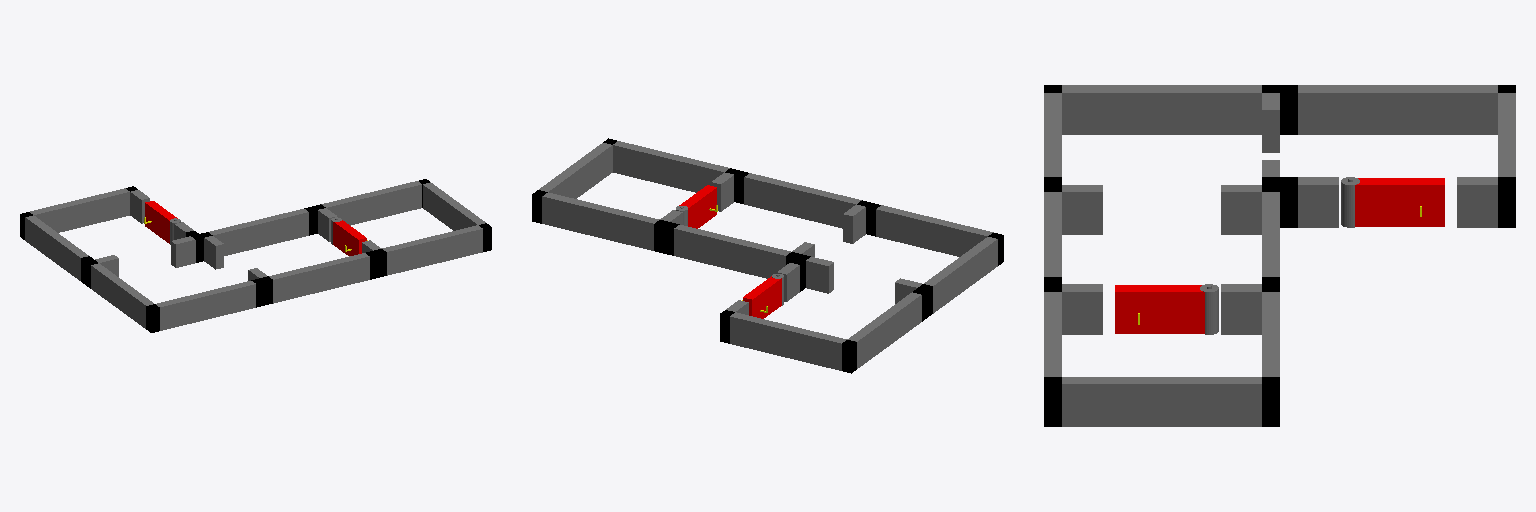
--- Render facts (derived) ---
Views: 3 orthographic renders of the robot side by side, from view 1: azimuth 30°, elevation 25°; view 2: azimuth 150°, elevation 25°; view 3: azimuth 270°, elevation 25°.
Model rooms3 with 54 links and 53 joints (2 revolute, 2 prismatic, 49 fixed), rooted at base_link, posed all joints at 0.
Visible links, largest first — view 1: link_fixed_23_wall_(-1.0, -0.4625), link_fixed_8_wall_(0.0, -0.4625), link_fixed_32_wall_(-2.0, -0.4625), link_fixed_21_wall_(-1.0, 0.4625), link_fixed_46_wall_(-2.0, 1.4625), link_fixed_6_wall_(0.0, 0.4625), link_fixed_49_wall_(-2.4625, 1.0), link_fixed_34_wall_(-2.4625, 0.0), link_fixed_4_wall_(0.4625, 0.0), link_fixed_14_door_panel, link_fixed_40_door_panel, link_fixed_30_wall_(-1.6625, 0.4625) (+1 smaller); view 2: link_fixed_46_wall_(-2.0, 1.4625), link_fixed_6_wall_(0.0, 0.4625), link_fixed_21_wall_(-1.0, 0.4625), link_fixed_23_wall_(-1.0, -0.4625), link_fixed_32_wall_(-2.0, -0.4625), link_fixed_8_wall_(0.0, -0.4625), link_fixed_49_wall_(-2.4625, 1.0), link_fixed_34_wall_(-2.4625, 0.0), link_fixed_4_wall_(0.4625, 0.0), link_fixed_40_door_panel, link_fixed_14_door_panel, link_fixed_30_wall_(-1.6625, 0.4625) (+3 smaller); view 3: link_fixed_34_wall_(-2.4625, 0.0), link_fixed_49_wall_(-2.4625, 1.0), link_fixed_4_wall_(0.4625, 0.0), link_fixed_40_door_panel, link_fixed_14_door_panel, link_fixed_10_wall_(-0.4625, -0.3375), link_fixed_11_wall_(-0.4625, 0.3375), link_fixed_36_wall_(-1.5375, 0.6625), link_fixed_37_wall_(-1.5375, 1.3375), link_fixed_25_wall_(-1.4625, -0.3375), link_fixed_26_wall_(-1.4625, 0.3375), link_fixed_21_wall_(-1.0, 0.4625) (+13 smaller).
Boxes of the visible links, bbox=[...] form: link_fixed_23_wall_(-1.0, -0.4625): bbox=[269, 253, 369, 303]; link_fixed_8_wall_(0.0, -0.4625): bbox=[382, 225, 482, 275]; link_fixed_32_wall_(-2.0, -0.4625): bbox=[156, 281, 255, 330]; link_fixed_21_wall_(-1.0, 0.4625): bbox=[209, 209, 308, 255]; link_fixed_46_wall_(-2.0, 1.4625): bbox=[30, 188, 129, 232]; link_fixed_6_wall_(0.0, 0.4625): bbox=[321, 181, 421, 225]; link_fixed_49_wall_(-2.4625, 1.0): bbox=[25, 215, 88, 280]; link_fixed_34_wall_(-2.4625, 0.0): bbox=[91, 263, 153, 328]; link_fixed_4_wall_(0.4625, 0.0): bbox=[423, 182, 485, 230]; link_fixed_14_door_panel: bbox=[333, 220, 366, 255]; link_fixed_40_door_panel: bbox=[145, 201, 177, 243]; link_fixed_30_wall_(-1.6625, 0.4625): bbox=[171, 236, 195, 267]; link_fixed_46_wall_(-2.0, 1.4625): bbox=[730, 312, 846, 370]; link_fixed_6_wall_(0.0, 0.4625): bbox=[542, 192, 659, 250]; link_fixed_21_wall_(-1.0, 0.4625): bbox=[674, 225, 790, 278]; link_fixed_23_wall_(-1.0, -0.4625): bbox=[744, 173, 861, 228]; link_fixed_32_wall_(-2.0, -0.4625): bbox=[876, 205, 993, 256]; link_fixed_8_wall_(0.0, -0.4625): bbox=[613, 141, 729, 192]; link_fixed_49_wall_(-2.4625, 1.0): bbox=[847, 292, 921, 368]; link_fixed_34_wall_(-2.4625, 0.0): bbox=[924, 237, 997, 313]; link_fixed_4_wall_(0.4625, 0.0): bbox=[539, 143, 612, 198]; link_fixed_40_door_panel: bbox=[743, 276, 781, 318]; link_fixed_14_door_panel: bbox=[679, 185, 716, 228]; link_fixed_30_wall_(-1.6625, 0.4625): bbox=[806, 257, 833, 293]; link_fixed_34_wall_(-2.4625, 0.0): bbox=[1062, 85, 1261, 134]; link_fixed_49_wall_(-2.4625, 1.0): bbox=[1298, 85, 1497, 134]; link_fixed_4_wall_(0.4625, 0.0): bbox=[1062, 377, 1261, 426]; link_fixed_40_door_panel: bbox=[1355, 178, 1444, 226]; link_fixed_14_door_panel: bbox=[1115, 285, 1204, 333]; link_fixed_10_wall_(-0.4625, -0.3375): bbox=[1062, 284, 1102, 334]; link_fixed_11_wall_(-0.4625, 0.3375): bbox=[1221, 284, 1261, 334]; link_fixed_36_wall_(-1.5375, 0.6625): bbox=[1298, 177, 1338, 227]; link_fixed_37_wall_(-1.5375, 1.3375): bbox=[1457, 177, 1497, 227]; link_fixed_25_wall_(-1.4625, -0.3375): bbox=[1062, 185, 1102, 234]; link_fixed_26_wall_(-1.4625, 0.3375): bbox=[1221, 185, 1261, 234]; link_fixed_21_wall_(-1.0, 0.4625): bbox=[1262, 192, 1279, 276].
Bounding box of the posed robot: 12 × 8 × 0.879 m (x, y, z).
Geometry: only primitive shapes (box / cylinder / sphere) drawn; not drawn: 2 mesh visuals (reference in a form the renderer does not follow).

The robot description file, URDF, robot "rooms3":
<?xml version="1.0"?>
<!-- created with Phobos 1.0.1 "Capricious Choutengan" -->
  <robot name="rooms3">

    <link name="base_link">
    </link>

    <link name="goal">
    </link>

    <link name="link_0_joint_0">
      <visual name="visual_mesh_2_link_0">
        <origin xyz="0 0 0" rpy="0 0 0"/>
        <geometry>
          <mesh filename="file://[local-path]/ba/puzzle-generator/puzzles/rooms3/meshes/stl/robot.stl" scale="1.0 1.0 1.0"/>
        </geometry>
        <material name="green"/>
      </visual>
      <collision name="collision_mesh_2_link_0">
        <origin xyz="0 0 0" rpy="0 0 0"/>
        <geometry>
          <mesh filename="file://[local-path]/ba/puzzle-generator/puzzles/rooms3/meshes/stl/robot.001.stl" scale="1.0 1.0 1.0"/>
        </geometry>
      </collision>
    </link>

    <link name="link_0_joint_0.001">
      <visual name="visual_mesh_2_link_0.001">
        <origin xyz="0 0 0" rpy="0 0 0"/>
        <geometry>
          <mesh filename="file://[local-path]/ba/puzzle-generator/puzzles/rooms3/meshes/stl/robot.002.stl" scale="0.999 0.999 0.999"/>
        </geometry>
        <material name="green_translucent"/>
      </visual>
    </link>

    <link name="link_0_joint_1">
    </link>

    <link name="link_0_joint_1.001">
    </link>

    <link name="link_0_joint_2">
    </link>

    <link name="link_1_joint_0">
      <visual name="visual_cylinder_12_link_1">
        <origin xyz="0 0 0" rpy="0 0 0"/>
        <geometry>
          <cylinder radius="0.1645" length="0.799"/>
        </geometry>
        <material name="gray"/>
      </visual>
      <collision name="collision_cylinder_12_link_1">
        <origin xyz="0 0 0" rpy="0 0 0"/>
        <geometry>
          <cylinder radius="0.1645" length="0.799"/>
        </geometry>
      </collision>
    </link>

    <link name="link_2_joint_0">
      <visual name="visual_cylinder_38_link_2">
        <origin xyz="0 0 0" rpy="0 0 0"/>
        <geometry>
          <cylinder radius="0.1645" length="0.799"/>
        </geometry>
        <material name="gray"/>
      </visual>
      <collision name="collision_cylinder_38_link_2">
        <origin xyz="0 0 0" rpy="0 0 0"/>
        <geometry>
          <cylinder radius="0.1645" length="0.799"/>
        </geometry>
      </collision>
    </link>

    <link name="link_fixed_10_wall_(-0.4625, -0.3375)">
      <visual name="visual_box_fixed_10_wall_(-0.4625, -0.3375)">
        <origin xyz="0 0 0" rpy="0 0 0"/>
        <geometry>
          <box size="0.299 0.699 0.799"/>
        </geometry>
        <material name="gray"/>
      </visual>
      <collision name="collision_box_fixed_10_wall_(-0.4625, -0.3375)">
        <origin xyz="0 0 0" rpy="0 0 0"/>
        <geometry>
          <box size="0.299 0.699 0.799"/>
        </geometry>
      </collision>
    </link>

    <link name="link_fixed_11_wall_(-0.4625, 0.3375)">
      <visual name="visual_box_fixed_11_wall_(-0.4625, 0.3375)">
        <origin xyz="0 0 0" rpy="0 0 0"/>
        <geometry>
          <box size="0.299 0.699 0.799"/>
        </geometry>
        <material name="gray"/>
      </visual>
      <collision name="collision_box_fixed_11_wall_(-0.4625, 0.3375)">
        <origin xyz="0 0 0" rpy="0 0 0"/>
        <geometry>
          <box size="0.299 0.699 0.799"/>
        </geometry>
      </collision>
    </link>

    <link name="link_fixed_13_hinge">
      <visual name="visual_cylinder_fixed_13_hinge">
        <origin xyz="0 0 0" rpy="0 0 0"/>
        <geometry>
          <cylinder radius="0.04075" length="0.879"/>
        </geometry>
        <material name="gray"/>
      </visual>
    </link>

    <link name="link_fixed_14_door_panel">
      <visual name="visual_box_fixed_14_door_panel">
        <origin xyz="0 0 0" rpy="0 0 0"/>
        <geometry>
          <box size="1.599 0.299 0.795"/>
        </geometry>
        <material name="red"/>
      </visual>
      <collision name="collision_box_fixed_14_door_panel">
        <origin xyz="0 0 0" rpy="0 0 0"/>
        <geometry>
          <box size="1.599 0.299 0.795"/>
        </geometry>
      </collision>
    </link>

    <link name="link_fixed_15_door_handle1">
      <visual name="visual_box_fixed_15_door_handle1">
        <origin xyz="0 0 0" rpy="0 0 0"/>
        <geometry>
          <box size="0.039 0.039 0.199"/>
        </geometry>
        <material name="yellow"/>
      </visual>
      <collision name="collision_box_fixed_15_door_handle1">
        <origin xyz="0 0 0" rpy="0 0 0"/>
        <geometry>
          <box size="0.039 0.039 0.199"/>
        </geometry>
      </collision>
    </link>

    <link name="link_fixed_16_door_handle1_connector">
      <visual name="visual_box_fixed_16_door_handle1_connector">
        <origin xyz="0 0 0" rpy="0 0 0"/>
        <geometry>
          <box size="0.039 0.199 0.039"/>
        </geometry>
        <material name="yellow"/>
      </visual>
      <collision name="collision_box_fixed_16_door_handle1_connector">
        <origin xyz="0 0 0" rpy="0 0 0"/>
        <geometry>
          <box size="0.039 0.199 0.039"/>
        </geometry>
      </collision>
    </link>

    <link name="link_fixed_17_door_handle2">
      <visual name="visual_box_fixed_17_door_handle2">
        <origin xyz="0 0 0" rpy="0 0 0"/>
        <geometry>
          <box size="0.039 0.039 0.199"/>
        </geometry>
        <material name="yellow"/>
      </visual>
      <collision name="collision_box_fixed_17_door_handle2">
        <origin xyz="0 0 0" rpy="0 0 0"/>
        <geometry>
          <box size="0.039 0.039 0.199"/>
        </geometry>
      </collision>
    </link>

    <link name="link_fixed_18_door_handle2_connector">
      <visual name="visual_box_fixed_18_door_handle2_connector">
        <origin xyz="0 0 0" rpy="0 0 0"/>
        <geometry>
          <box size="0.039 0.199 0.039"/>
        </geometry>
        <material name="yellow"/>
      </visual>
      <collision name="collision_box_fixed_18_door_handle2_connector">
        <origin xyz="0 0 0" rpy="0 0 0"/>
        <geometry>
          <box size="0.039 0.199 0.039"/>
        </geometry>
      </collision>
    </link>

    <link name="link_fixed_19_pillar_(-0.5375, 0.4625)">
      <visual name="visual_box_fixed_19_pillar_(-0.5375, 0.4625)">
        <origin xyz="0 0 0" rpy="0 0 0"/>
        <geometry>
          <box size="0.299 0.299 0.799"/>
        </geometry>
        <material name="black"/>
      </visual>
      <collision name="collision_box_fixed_19_pillar_(-0.5375, 0.4625)">
        <origin xyz="0 0 0" rpy="0 0 0"/>
        <geometry>
          <box size="0.299 0.299 0.799"/>
        </geometry>
      </collision>
    </link>

    <link name="link_fixed_20_pillar_(-1.4625, 0.4625)">
      <visual name="visual_box_fixed_20_pillar_(-1.4625, 0.4625)">
        <origin xyz="0 0 0" rpy="0 0 0"/>
        <geometry>
          <box size="0.299 0.299 0.799"/>
        </geometry>
        <material name="black"/>
      </visual>
      <collision name="collision_box_fixed_20_pillar_(-1.4625, 0.4625)">
        <origin xyz="0 0 0" rpy="0 0 0"/>
        <geometry>
          <box size="0.299 0.299 0.799"/>
        </geometry>
      </collision>
    </link>

    <link name="link_fixed_21_wall_(-1.0, 0.4625)">
      <visual name="visual_box_fixed_21_wall_(-1.0, 0.4625)">
        <origin xyz="0 0 0" rpy="0 0 0"/>
        <geometry>
          <box size="3.399 0.299 0.799"/>
        </geometry>
        <material name="gray"/>
      </visual>
      <collision name="collision_box_fixed_21_wall_(-1.0, 0.4625)">
        <origin xyz="0 0 0" rpy="0 0 0"/>
        <geometry>
          <box size="3.399 0.299 0.799"/>
        </geometry>
      </collision>
    </link>

    <link name="link_fixed_22_pillar_(-0.5375, -0.4625)">
      <visual name="visual_box_fixed_22_pillar_(-0.5375, -0.4625)">
        <origin xyz="0 0 0" rpy="0 0 0"/>
        <geometry>
          <box size="0.299 0.299 0.799"/>
        </geometry>
        <material name="black"/>
      </visual>
      <collision name="collision_box_fixed_22_pillar_(-0.5375, -0.4625)">
        <origin xyz="0 0 0" rpy="0 0 0"/>
        <geometry>
          <box size="0.299 0.299 0.799"/>
        </geometry>
      </collision>
    </link>

    <link name="link_fixed_23_wall_(-1.0, -0.4625)">
      <visual name="visual_box_fixed_23_wall_(-1.0, -0.4625)">
        <origin xyz="0 0 0" rpy="0 0 0"/>
        <geometry>
          <box size="3.399 0.299 0.799"/>
        </geometry>
        <material name="gray"/>
      </visual>
      <collision name="collision_box_fixed_23_wall_(-1.0, -0.4625)">
        <origin xyz="0 0 0" rpy="0 0 0"/>
        <geometry>
          <box size="3.399 0.299 0.799"/>
        </geometry>
      </collision>
    </link>

    <link name="link_fixed_24_pillar_(-1.4625, -0.4625)">
      <visual name="visual_box_fixed_24_pillar_(-1.4625, -0.4625)">
        <origin xyz="0 0 0" rpy="0 0 0"/>
        <geometry>
          <box size="0.299 0.299 0.799"/>
        </geometry>
        <material name="black"/>
      </visual>
      <collision name="collision_box_fixed_24_pillar_(-1.4625, -0.4625)">
        <origin xyz="0 0 0" rpy="0 0 0"/>
        <geometry>
          <box size="0.299 0.299 0.799"/>
        </geometry>
      </collision>
    </link>

    <link name="link_fixed_25_wall_(-1.4625, -0.3375)">
      <visual name="visual_box_fixed_25_wall_(-1.4625, -0.3375)">
        <origin xyz="0 0 0" rpy="0 0 0"/>
        <geometry>
          <box size="0.299 0.699 0.799"/>
        </geometry>
        <material name="gray"/>
      </visual>
      <collision name="collision_box_fixed_25_wall_(-1.4625, -0.3375)">
        <origin xyz="0 0 0" rpy="0 0 0"/>
        <geometry>
          <box size="0.299 0.699 0.799"/>
        </geometry>
      </collision>
    </link>

    <link name="link_fixed_26_wall_(-1.4625, 0.3375)">
      <visual name="visual_box_fixed_26_wall_(-1.4625, 0.3375)">
        <origin xyz="0 0 0" rpy="0 0 0"/>
        <geometry>
          <box size="0.299 0.699 0.799"/>
        </geometry>
        <material name="gray"/>
      </visual>
      <collision name="collision_box_fixed_26_wall_(-1.4625, 0.3375)">
        <origin xyz="0 0 0" rpy="0 0 0"/>
        <geometry>
          <box size="0.299 0.699 0.799"/>
        </geometry>
      </collision>
    </link>

    <link name="link_fixed_27_pillar_(-1.5375, 0.4625)">
      <visual name="visual_box_fixed_27_pillar_(-1.5375, 0.4625)">
        <origin xyz="0 0 0" rpy="0 0 0"/>
        <geometry>
          <box size="0.299 0.299 0.799"/>
        </geometry>
        <material name="black"/>
      </visual>
      <collision name="collision_box_fixed_27_pillar_(-1.5375, 0.4625)">
        <origin xyz="0 0 0" rpy="0 0 0"/>
        <geometry>
          <box size="0.299 0.299 0.799"/>
        </geometry>
      </collision>
    </link>

    <link name="link_fixed_28_pillar_(-2.4625, 0.4625)">
      <visual name="visual_box_fixed_28_pillar_(-2.4625, 0.4625)">
        <origin xyz="0 0 0" rpy="0 0 0"/>
        <geometry>
          <box size="0.299 0.299 0.799"/>
        </geometry>
        <material name="black"/>
      </visual>
      <collision name="collision_box_fixed_28_pillar_(-2.4625, 0.4625)">
        <origin xyz="0 0 0" rpy="0 0 0"/>
        <geometry>
          <box size="0.299 0.299 0.799"/>
        </geometry>
      </collision>
    </link>

    <link name="link_fixed_29_wall_(-2.3375, 0.4625)">
      <visual name="visual_box_fixed_29_wall_(-2.3375, 0.4625)">
        <origin xyz="0 0 0" rpy="0 0 0"/>
        <geometry>
          <box size="0.699 0.299 0.799"/>
        </geometry>
        <material name="gray"/>
      </visual>
      <collision name="collision_box_fixed_29_wall_(-2.3375, 0.4625)">
        <origin xyz="0 0 0" rpy="0 0 0"/>
        <geometry>
          <box size="0.699 0.299 0.799"/>
        </geometry>
      </collision>
    </link>

    <link name="link_fixed_30_wall_(-1.6625, 0.4625)">
      <visual name="visual_box_fixed_30_wall_(-1.6625, 0.4625)">
        <origin xyz="0 0 0" rpy="0 0 0"/>
        <geometry>
          <box size="0.699 0.299 0.799"/>
        </geometry>
        <material name="gray"/>
      </visual>
      <collision name="collision_box_fixed_30_wall_(-1.6625, 0.4625)">
        <origin xyz="0 0 0" rpy="0 0 0"/>
        <geometry>
          <box size="0.699 0.299 0.799"/>
        </geometry>
      </collision>
    </link>

    <link name="link_fixed_31_pillar_(-1.5375, -0.4625)">
      <visual name="visual_box_fixed_31_pillar_(-1.5375, -0.4625)">
        <origin xyz="0 0 0" rpy="0 0 0"/>
        <geometry>
          <box size="0.299 0.299 0.799"/>
        </geometry>
        <material name="black"/>
      </visual>
      <collision name="collision_box_fixed_31_pillar_(-1.5375, -0.4625)">
        <origin xyz="0 0 0" rpy="0 0 0"/>
        <geometry>
          <box size="0.299 0.299 0.799"/>
        </geometry>
      </collision>
    </link>

    <link name="link_fixed_32_wall_(-2.0, -0.4625)">
      <visual name="visual_box_fixed_32_wall_(-2.0, -0.4625)">
        <origin xyz="0 0 0" rpy="0 0 0"/>
        <geometry>
          <box size="3.399 0.299 0.799"/>
        </geometry>
        <material name="gray"/>
      </visual>
      <collision name="collision_box_fixed_32_wall_(-2.0, -0.4625)">
        <origin xyz="0 0 0" rpy="0 0 0"/>
        <geometry>
          <box size="3.399 0.299 0.799"/>
        </geometry>
      </collision>
    </link>

    <link name="link_fixed_33_pillar_(-2.4625, -0.4625)">
      <visual name="visual_box_fixed_33_pillar_(-2.4625, -0.4625)">
        <origin xyz="0 0 0" rpy="0 0 0"/>
        <geometry>
          <box size="0.299 0.299 0.799"/>
        </geometry>
        <material name="black"/>
      </visual>
      <collision name="collision_box_fixed_33_pillar_(-2.4625, -0.4625)">
        <origin xyz="0 0 0" rpy="0 0 0"/>
        <geometry>
          <box size="0.299 0.299 0.799"/>
        </geometry>
      </collision>
    </link>

    <link name="link_fixed_34_wall_(-2.4625, 0.0)">
      <visual name="visual_box_fixed_34_wall_(-2.4625, 0.0)">
        <origin xyz="0 0 0" rpy="0 0 0"/>
        <geometry>
          <box size="0.299 3.399 0.799"/>
        </geometry>
        <material name="gray"/>
      </visual>
      <collision name="collision_box_fixed_34_wall_(-2.4625, 0.0)">
        <origin xyz="0 0 0" rpy="0 0 0"/>
        <geometry>
          <box size="0.299 3.399 0.799"/>
        </geometry>
      </collision>
    </link>

    <link name="link_fixed_35_pillar_(-1.5375, 1.4625)">
      <visual name="visual_box_fixed_35_pillar_(-1.5375, 1.4625)">
        <origin xyz="0 0 0" rpy="0 0 0"/>
        <geometry>
          <box size="0.299 0.299 0.799"/>
        </geometry>
        <material name="black"/>
      </visual>
      <collision name="collision_box_fixed_35_pillar_(-1.5375, 1.4625)">
        <origin xyz="0 0 0" rpy="0 0 0"/>
        <geometry>
          <box size="0.299 0.299 0.799"/>
        </geometry>
      </collision>
    </link>

    <link name="link_fixed_36_wall_(-1.5375, 0.6625)">
      <visual name="visual_box_fixed_36_wall_(-1.5375, 0.6625)">
        <origin xyz="0 0 0" rpy="0 0 0"/>
        <geometry>
          <box size="0.299 0.699 0.799"/>
        </geometry>
        <material name="gray"/>
      </visual>
      <collision name="collision_box_fixed_36_wall_(-1.5375, 0.6625)">
        <origin xyz="0 0 0" rpy="0 0 0"/>
        <geometry>
          <box size="0.299 0.699 0.799"/>
        </geometry>
      </collision>
    </link>

    <link name="link_fixed_37_wall_(-1.5375, 1.3375)">
      <visual name="visual_box_fixed_37_wall_(-1.5375, 1.3375)">
        <origin xyz="0 0 0" rpy="0 0 0"/>
        <geometry>
          <box size="0.299 0.699 0.799"/>
        </geometry>
        <material name="gray"/>
      </visual>
      <collision name="collision_box_fixed_37_wall_(-1.5375, 1.3375)">
        <origin xyz="0 0 0" rpy="0 0 0"/>
        <geometry>
          <box size="0.299 0.699 0.799"/>
        </geometry>
      </collision>
    </link>

    <link name="link_fixed_39_hinge">
      <visual name="visual_cylinder_fixed_39_hinge">
        <origin xyz="0 0 0" rpy="0 0 0"/>
        <geometry>
          <cylinder radius="0.04075" length="0.879"/>
        </geometry>
        <material name="gray"/>
      </visual>
    </link>

    <link name="link_fixed_3_pillar_(0.4625, 0.4625)">
      <visual name="visual_box_fixed_3_pillar_(0.4625, 0.4625)">
        <origin xyz="0 0 0" rpy="0 0 0"/>
        <geometry>
          <box size="0.299 0.299 0.799"/>
        </geometry>
        <material name="black"/>
      </visual>
      <collision name="collision_box_fixed_3_pillar_(0.4625, 0.4625)">
        <origin xyz="0 0 0" rpy="0 0 0"/>
        <geometry>
          <box size="0.299 0.299 0.799"/>
        </geometry>
      </collision>
    </link>

    <link name="link_fixed_40_door_panel">
      <visual name="visual_box_fixed_40_door_panel">
        <origin xyz="0 0 0" rpy="0 0 0"/>
        <geometry>
          <box size="1.599 0.299 0.795"/>
        </geometry>
        <material name="red"/>
      </visual>
      <collision name="collision_box_fixed_40_door_panel">
        <origin xyz="0 0 0" rpy="0 0 0"/>
        <geometry>
          <box size="1.599 0.299 0.795"/>
        </geometry>
      </collision>
    </link>

    <link name="link_fixed_41_door_handle1">
      <visual name="visual_box_fixed_41_door_handle1">
        <origin xyz="0 0 0" rpy="0 0 0"/>
        <geometry>
          <box size="0.039 0.039 0.199"/>
        </geometry>
        <material name="yellow"/>
      </visual>
      <collision name="collision_box_fixed_41_door_handle1">
        <origin xyz="0 0 0" rpy="0 0 0"/>
        <geometry>
          <box size="0.039 0.039 0.199"/>
        </geometry>
      </collision>
    </link>

    <link name="link_fixed_42_door_handle1_connector">
      <visual name="visual_box_fixed_42_door_handle1_connector">
        <origin xyz="0 0 0" rpy="0 0 0"/>
        <geometry>
          <box size="0.039 0.199 0.039"/>
        </geometry>
        <material name="yellow"/>
      </visual>
      <collision name="collision_box_fixed_42_door_handle1_connector">
        <origin xyz="0 0 0" rpy="0 0 0"/>
        <geometry>
          <box size="0.039 0.199 0.039"/>
        </geometry>
      </collision>
    </link>

    <link name="link_fixed_43_door_handle2">
      <visual name="visual_box_fixed_43_door_handle2">
        <origin xyz="0 0 0" rpy="0 0 0"/>
        <geometry>
          <box size="0.039 0.039 0.199"/>
        </geometry>
        <material name="yellow"/>
      </visual>
      <collision name="collision_box_fixed_43_door_handle2">
        <origin xyz="0 0 0" rpy="0 0 0"/>
        <geometry>
          <box size="0.039 0.039 0.199"/>
        </geometry>
      </collision>
    </link>

    <link name="link_fixed_44_door_handle2_connector">
      <visual name="visual_box_fixed_44_door_handle2_connector">
        <origin xyz="0 0 0" rpy="0 0 0"/>
        <geometry>
          <box size="0.039 0.199 0.039"/>
        </geometry>
        <material name="yellow"/>
      </visual>
      <collision name="collision_box_fixed_44_door_handle2_connector">
        <origin xyz="0 0 0" rpy="0 0 0"/>
        <geometry>
          <box size="0.039 0.199 0.039"/>
        </geometry>
      </collision>
    </link>

    <link name="link_fixed_45_pillar_(-2.4625, 1.4625)">
      <visual name="visual_box_fixed_45_pillar_(-2.4625, 1.4625)">
        <origin xyz="0 0 0" rpy="0 0 0"/>
        <geometry>
          <box size="0.299 0.299 0.799"/>
        </geometry>
        <material name="black"/>
      </visual>
      <collision name="collision_box_fixed_45_pillar_(-2.4625, 1.4625)">
        <origin xyz="0 0 0" rpy="0 0 0"/>
        <geometry>
          <box size="0.299 0.299 0.799"/>
        </geometry>
      </collision>
    </link>

    <link name="link_fixed_46_wall_(-2.0, 1.4625)">
      <visual name="visual_box_fixed_46_wall_(-2.0, 1.4625)">
        <origin xyz="0 0 0" rpy="0 0 0"/>
        <geometry>
          <box size="3.399 0.299 0.799"/>
        </geometry>
        <material name="gray"/>
      </visual>
      <collision name="collision_box_fixed_46_wall_(-2.0, 1.4625)">
        <origin xyz="0 0 0" rpy="0 0 0"/>
        <geometry>
          <box size="3.399 0.299 0.799"/>
        </geometry>
      </collision>
    </link>

    <link name="link_fixed_47_pillar_(-1.5375, 0.5375)">
      <visual name="visual_box_fixed_47_pillar_(-1.5375, 0.5375)">
        <origin xyz="0 0 0" rpy="0 0 0"/>
        <geometry>
          <box size="0.299 0.299 0.799"/>
        </geometry>
        <material name="black"/>
      </visual>
      <collision name="collision_box_fixed_47_pillar_(-1.5375, 0.5375)">
        <origin xyz="0 0 0" rpy="0 0 0"/>
        <geometry>
          <box size="0.299 0.299 0.799"/>
        </geometry>
      </collision>
    </link>

    <link name="link_fixed_48_pillar_(-2.4625, 0.5375)">
      <visual name="visual_box_fixed_48_pillar_(-2.4625, 0.5375)">
        <origin xyz="0 0 0" rpy="0 0 0"/>
        <geometry>
          <box size="0.299 0.299 0.799"/>
        </geometry>
        <material name="black"/>
      </visual>
      <collision name="collision_box_fixed_48_pillar_(-2.4625, 0.5375)">
        <origin xyz="0 0 0" rpy="0 0 0"/>
        <geometry>
          <box size="0.299 0.299 0.799"/>
        </geometry>
      </collision>
    </link>

    <link name="link_fixed_49_wall_(-2.4625, 1.0)">
      <visual name="visual_box_fixed_49_wall_(-2.4625, 1.0)">
        <origin xyz="0 0 0" rpy="0 0 0"/>
        <geometry>
          <box size="0.299 3.399 0.799"/>
        </geometry>
        <material name="gray"/>
      </visual>
      <collision name="collision_box_fixed_49_wall_(-2.4625, 1.0)">
        <origin xyz="0 0 0" rpy="0 0 0"/>
        <geometry>
          <box size="0.299 3.399 0.799"/>
        </geometry>
      </collision>
    </link>

    <link name="link_fixed_4_wall_(0.4625, 0.0)">
      <visual name="visual_box_fixed_4_wall_(0.4625, 0.0)">
        <origin xyz="0 0 0" rpy="0 0 0"/>
        <geometry>
          <box size="0.299 3.399 0.799"/>
        </geometry>
        <material name="gray"/>
      </visual>
      <collision name="collision_box_fixed_4_wall_(0.4625, 0.0)">
        <origin xyz="0 0 0" rpy="0 0 0"/>
        <geometry>
          <box size="0.299 3.399 0.799"/>
        </geometry>
      </collision>
    </link>

    <link name="link_fixed_5_pillar_(-0.4625, 0.4625)">
      <visual name="visual_box_fixed_5_pillar_(-0.4625, 0.4625)">
        <origin xyz="0 0 0" rpy="0 0 0"/>
        <geometry>
          <box size="0.299 0.299 0.799"/>
        </geometry>
        <material name="black"/>
      </visual>
      <collision name="collision_box_fixed_5_pillar_(-0.4625, 0.4625)">
        <origin xyz="0 0 0" rpy="0 0 0"/>
        <geometry>
          <box size="0.299 0.299 0.799"/>
        </geometry>
      </collision>
    </link>

    <link name="link_fixed_6_wall_(0.0, 0.4625)">
      <visual name="visual_box_fixed_6_wall_(0.0, 0.4625)">
        <origin xyz="0 0 0" rpy="0 0 0"/>
        <geometry>
          <box size="3.399 0.299 0.799"/>
        </geometry>
        <material name="gray"/>
      </visual>
      <collision name="collision_box_fixed_6_wall_(0.0, 0.4625)">
        <origin xyz="0 0 0" rpy="0 0 0"/>
        <geometry>
          <box size="3.399 0.299 0.799"/>
        </geometry>
      </collision>
    </link>

    <link name="link_fixed_7_pillar_(0.4625, -0.4625)">
      <visual name="visual_box_fixed_7_pillar_(0.4625, -0.4625)">
        <origin xyz="0 0 0" rpy="0 0 0"/>
        <geometry>
          <box size="0.299 0.299 0.799"/>
        </geometry>
        <material name="black"/>
      </visual>
      <collision name="collision_box_fixed_7_pillar_(0.4625, -0.4625)">
        <origin xyz="0 0 0" rpy="0 0 0"/>
        <geometry>
          <box size="0.299 0.299 0.799"/>
        </geometry>
      </collision>
    </link>

    <link name="link_fixed_8_wall_(0.0, -0.4625)">
      <visual name="visual_box_fixed_8_wall_(0.0, -0.4625)">
        <origin xyz="0 0 0" rpy="0 0 0"/>
        <geometry>
          <box size="3.399 0.299 0.799"/>
        </geometry>
        <material name="gray"/>
      </visual>
      <collision name="collision_box_fixed_8_wall_(0.0, -0.4625)">
        <origin xyz="0 0 0" rpy="0 0 0"/>
        <geometry>
          <box size="3.399 0.299 0.799"/>
        </geometry>
      </collision>
    </link>

    <link name="link_fixed_9_pillar_(-0.4625, -0.4625)">
      <visual name="visual_box_fixed_9_pillar_(-0.4625, -0.4625)">
        <origin xyz="0 0 0" rpy="0 0 0"/>
        <geometry>
          <box size="0.299 0.299 0.799"/>
        </geometry>
        <material name="black"/>
      </visual>
      <collision name="collision_box_fixed_9_pillar_(-0.4625, -0.4625)">
        <origin xyz="0 0 0" rpy="0 0 0"/>
        <geometry>
          <box size="0.299 0.299 0.799"/>
        </geometry>
      </collision>
    </link>

    <joint name="goal" type="fixed">
      <origin xyz="-4.0 4.0 0.25" rpy="0 0 0"/>
      <parent link="base_link"/>
      <child link="goal"/>
      <limit effort="0" velocity="0"/>
    </joint>

    <joint name="link_0_joint_0" type="fixed">
      <origin xyz="0 0 0" rpy="0 0 0"/>
      <parent link="link_0_joint_1"/>
      <child link="link_0_joint_0"/>
      <limit effort="0" velocity="0"/>
    </joint>

    <joint name="link_0_joint_0.001" type="fixed">
      <origin xyz="0 0 0" rpy="0 0 0"/>
      <parent link="link_0_joint_1.001"/>
      <child link="link_0_joint_0.001"/>
      <limit effort="0" velocity="0"/>
    </joint>

    <joint name="link_0_joint_1" type="prismatic">
      <origin xyz="0 0 0" rpy="0 0 0"/>
      <parent link="link_0_joint_2"/>
      <child link="link_0_joint_1"/>
      <axis xyz="0 1.0 0"/>
      <limit lower="-2.0" upper="6.0" effort="0" velocity="0"/>
    </joint>

    <joint name="link_0_joint_1.001" type="fixed">
      <origin xyz="0 0 0" rpy="0 0 0"/>
      <parent link="goal"/>
      <child link="link_0_joint_1.001"/>
      <limit effort="0" velocity="0"/>
    </joint>

    <joint name="link_0_joint_2" type="prismatic">
      <origin xyz="0 0 0.25" rpy="0 0 0"/>
      <parent link="base_link"/>
      <child link="link_0_joint_2"/>
      <axis xyz="1.0 0 0"/>
      <limit lower="-10.0" upper="2.0" effort="0" velocity="0"/>
    </joint>

    <joint name="link_1_joint_0" type="revolute">
      <origin xyz="-1.85 0.8 0.4" rpy="0 0 -1.5708"/>
      <parent link="base_link"/>
      <child link="link_1_joint_0"/>
      <axis xyz="0 0 1.0"/>
      <limit lower="0" upper="1.5708" effort="0" velocity="0"/>
    </joint>

    <joint name="link_2_joint_0" type="revolute">
      <origin xyz="-6.15 3.2 0.4" rpy="0 0 1.5708"/>
      <parent link="base_link"/>
      <child link="link_2_joint_0"/>
      <axis xyz="0 0 1.0"/>
      <limit lower="0" upper="1.5708" effort="0" velocity="0"/>
    </joint>

    <joint name="link_fixed_10_wall_(-0.4625, -0.3375)" type="fixed">
      <origin xyz="-1.85 -1.35 0.4" rpy="0 0 0"/>
      <parent link="base_link"/>
      <child link="link_fixed_10_wall_(-0.4625, -0.3375)"/>
    </joint>

    <joint name="link_fixed_11_wall_(-0.4625, 0.3375)" type="fixed">
      <origin xyz="-1.85 1.35 0.4" rpy="0 0 0"/>
      <parent link="base_link"/>
      <child link="link_fixed_11_wall_(-0.4625, 0.3375)"/>
    </joint>

    <joint name="link_fixed_13_hinge" type="fixed">
      <origin xyz="0 0 0" rpy="0 0 0"/>
      <parent link="link_1_joint_0"/>
      <child link="link_fixed_13_hinge"/>
    </joint>

    <joint name="link_fixed_14_door_panel" type="fixed">
      <origin xyz="0.8 0 0" rpy="0 0 0"/>
      <parent link="link_1_joint_0"/>
      <child link="link_fixed_14_door_panel"/>
    </joint>

    <joint name="link_fixed_15_door_handle1" type="fixed">
      <origin xyz="1.2 0.37 0" rpy="0 0 0"/>
      <parent link="link_1_joint_0"/>
      <child link="link_fixed_15_door_handle1"/>
    </joint>

    <joint name="link_fixed_16_door_handle1_connector" type="fixed">
      <origin xyz="1.2 0.25 -0.08" rpy="0 0 0"/>
      <parent link="link_1_joint_0"/>
      <child link="link_fixed_16_door_handle1_connector"/>
    </joint>

    <joint name="link_fixed_17_door_handle2" type="fixed">
      <origin xyz="1.2 -0.37 0" rpy="0 0 0"/>
      <parent link="link_1_joint_0"/>
      <child link="link_fixed_17_door_handle2"/>
    </joint>

    <joint name="link_fixed_18_door_handle2_connector" type="fixed">
      <origin xyz="1.2 -0.25 -0.08" rpy="0 0 0"/>
      <parent link="link_1_joint_0"/>
      <child link="link_fixed_18_door_handle2_connector"/>
    </joint>

    <joint name="link_fixed_19_pillar_(-0.5375, 0.4625)" type="fixed">
      <origin xyz="-2.15 1.85 0.4" rpy="0 0 0"/>
      <parent link="base_link"/>
      <child link="link_fixed_19_pillar_(-0.5375, 0.4625)"/>
    </joint>

    <joint name="link_fixed_20_pillar_(-1.4625, 0.4625)" type="fixed">
      <origin xyz="-5.85 1.85 0.4" rpy="0 0 0"/>
      <parent link="base_link"/>
      <child link="link_fixed_20_pillar_(-1.4625, 0.4625)"/>
    </joint>

    <joint name="link_fixed_21_wall_(-1.0, 0.4625)" type="fixed">
      <origin xyz="-4.0 1.85 0.4" rpy="0 0 0"/>
      <parent link="base_link"/>
      <child link="link_fixed_21_wall_(-1.0, 0.4625)"/>
    </joint>

    <joint name="link_fixed_22_pillar_(-0.5375, -0.4625)" type="fixed">
      <origin xyz="-2.15 -1.85 0.4" rpy="0 0 0"/>
      <parent link="base_link"/>
      <child link="link_fixed_22_pillar_(-0.5375, -0.4625)"/>
    </joint>

    <joint name="link_fixed_23_wall_(-1.0, -0.4625)" type="fixed">
      <origin xyz="-4.0 -1.85 0.4" rpy="0 0 0"/>
      <parent link="base_link"/>
      <child link="link_fixed_23_wall_(-1.0, -0.4625)"/>
    </joint>

    <joint name="link_fixed_24_pillar_(-1.4625, -0.4625)" type="fixed">
      <origin xyz="-5.85 -1.85 0.4" rpy="0 0 0"/>
      <parent link="base_link"/>
      <child link="link_fixed_24_pillar_(-1.4625, -0.4625)"/>
    </joint>

    <joint name="link_fixed_25_wall_(-1.4625, -0.3375)" type="fixed">
      <origin xyz="-5.85 -1.35 0.4" rpy="0 0 0"/>
      <parent link="base_link"/>
      <child link="link_fixed_25_wall_(-1.4625, -0.3375)"/>
    </joint>

    <joint name="link_fixed_26_wall_(-1.4625, 0.3375)" type="fixed">
      <origin xyz="-5.85 1.35 0.4" rpy="0 0 0"/>
      <parent link="base_link"/>
      <child link="link_fixed_26_wall_(-1.4625, 0.3375)"/>
    </joint>

    <joint name="link_fixed_27_pillar_(-1.5375, 0.4625)" type="fixed">
      <origin xyz="-6.15 1.85 0.4" rpy="0 0 0"/>
      <parent link="base_link"/>
      <child link="link_fixed_27_pillar_(-1.5375, 0.4625)"/>
    </joint>

    <joint name="link_fixed_28_pillar_(-2.4625, 0.4625)" type="fixed">
      <origin xyz="-9.85 1.85 0.4" rpy="0 0 0"/>
      <parent link="base_link"/>
      <child link="link_fixed_28_pillar_(-2.4625, 0.4625)"/>
    </joint>

    <joint name="link_fixed_29_wall_(-2.3375, 0.4625)" type="fixed">
      <origin xyz="-9.35 1.85 0.4" rpy="0 0 0"/>
      <parent link="base_link"/>
      <child link="link_fixed_29_wall_(-2.3375, 0.4625)"/>
    </joint>

    <joint name="link_fixed_30_wall_(-1.6625, 0.4625)" type="fixed">
      <origin xyz="-6.65 1.85 0.4" rpy="0 0 0"/>
      <parent link="base_link"/>
      <child link="link_fixed_30_wall_(-1.6625, 0.4625)"/>
    </joint>

    <joint name="link_fixed_31_pillar_(-1.5375, -0.4625)" type="fixed">
      <origin xyz="-6.15 -1.85 0.4" rpy="0 0 0"/>
      <parent link="base_link"/>
      <child link="link_fixed_31_pillar_(-1.5375, -0.4625)"/>
    </joint>

    <joint name="link_fixed_32_wall_(-2.0, -0.4625)" type="fixed">
      <origin xyz="-8.0 -1.85 0.4" rpy="0 0 0"/>
      <parent link="base_link"/>
      <child link="link_fixed_32_wall_(-2.0, -0.4625)"/>
    </joint>

    <joint name="link_fixed_33_pillar_(-2.4625, -0.4625)" type="fixed">
      <origin xyz="-9.85 -1.85 0.4" rpy="0 0 0"/>
      <parent link="base_link"/>
      <child link="link_fixed_33_pillar_(-2.4625, -0.4625)"/>
    </joint>

    <joint name="link_fixed_34_wall_(-2.4625, 0.0)" type="fixed">
      <origin xyz="-9.85 0 0.4" rpy="0 0 0"/>
      <parent link="base_link"/>
      <child link="link_fixed_34_wall_(-2.4625, 0.0)"/>
    </joint>

    <joint name="link_fixed_35_pillar_(-1.5375, 1.4625)" type="fixed">
      <origin xyz="-6.15 5.85 0.4" rpy="0 0 0"/>
      <parent link="base_link"/>
      <child link="link_fixed_35_pillar_(-1.5375, 1.4625)"/>
    </joint>

    <joint name="link_fixed_36_wall_(-1.5375, 0.6625)" type="fixed">
      <origin xyz="-6.15 2.65 0.4" rpy="0 0 0"/>
      <parent link="base_link"/>
      <child link="link_fixed_36_wall_(-1.5375, 0.6625)"/>
    </joint>

    <joint name="link_fixed_37_wall_(-1.5375, 1.3375)" type="fixed">
      <origin xyz="-6.15 5.35 0.4" rpy="0 0 0"/>
      <parent link="base_link"/>
      <child link="link_fixed_37_wall_(-1.5375, 1.3375)"/>
    </joint>

    <joint name="link_fixed_39_hinge" type="fixed">
      <origin xyz="0 0 0" rpy="0 0 0"/>
      <parent link="link_2_joint_0"/>
      <child link="link_fixed_39_hinge"/>
    </joint>

    <joint name="link_fixed_3_pillar_(0.4625, 0.4625)" type="fixed">
      <origin xyz="1.85 1.85 0.4" rpy="0 0 0"/>
      <parent link="base_link"/>
      <child link="link_fixed_3_pillar_(0.4625, 0.4625)"/>
    </joint>

    <joint name="link_fixed_40_door_panel" type="fixed">
      <origin xyz="0.8 0 0" rpy="0 0 0"/>
      <parent link="link_2_joint_0"/>
      <child link="link_fixed_40_door_panel"/>
    </joint>

    <joint name="link_fixed_41_door_handle1" type="fixed">
      <origin xyz="1.2 0.37 0" rpy="0 0 0"/>
      <parent link="link_2_joint_0"/>
      <child link="link_fixed_41_door_handle1"/>
    </joint>

    <joint name="link_fixed_42_door_handle1_connector" type="fixed">
      <origin xyz="1.2 0.25 -0.08" rpy="0 0 0"/>
      <parent link="link_2_joint_0"/>
      <child link="link_fixed_42_door_handle1_connector"/>
    </joint>

    <joint name="link_fixed_43_door_handle2" type="fixed">
      <origin xyz="1.2 -0.37 0" rpy="0 0 0"/>
      <parent link="link_2_joint_0"/>
      <child link="link_fixed_43_door_handle2"/>
    </joint>

    <joint name="link_fixed_44_door_handle2_connector" type="fixed">
      <origin xyz="1.2 -0.25 -0.08" rpy="0 0 0"/>
      <parent link="link_2_joint_0"/>
      <child link="link_fixed_44_door_handle2_connector"/>
    </joint>

    <joint name="link_fixed_45_pillar_(-2.4625, 1.4625)" type="fixed">
      <origin xyz="-9.85 5.85 0.4" rpy="0 0 0"/>
      <parent link="base_link"/>
      <child link="link_fixed_45_pillar_(-2.4625, 1.4625)"/>
    </joint>

    <joint name="link_fixed_46_wall_(-2.0, 1.4625)" type="fixed">
      <origin xyz="-8.0 5.85 0.4" rpy="0 0 0"/>
      <parent link="base_link"/>
      <child link="link_fixed_46_wall_(-2.0, 1.4625)"/>
    </joint>

    <joint name="link_fixed_47_pillar_(-1.5375, 0.5375)" type="fixed">
      <origin xyz="-6.15 2.15 0.4" rpy="0 0 0"/>
      <parent link="base_link"/>
      <child link="link_fixed_47_pillar_(-1.5375, 0.5375)"/>
    </joint>

    <joint name="link_fixed_48_pillar_(-2.4625, 0.5375)" type="fixed">
      <origin xyz="-9.85 2.15 0.4" rpy="0 0 0"/>
      <parent link="base_link"/>
      <child link="link_fixed_48_pillar_(-2.4625, 0.5375)"/>
    </joint>

    <joint name="link_fixed_49_wall_(-2.4625, 1.0)" type="fixed">
      <origin xyz="-9.85 4.0 0.4" rpy="0 0 0"/>
      <parent link="base_link"/>
      <child link="link_fixed_49_wall_(-2.4625, 1.0)"/>
    </joint>

    <joint name="link_fixed_4_wall_(0.4625, 0.0)" type="fixed">
      <origin xyz="1.85 0 0.4" rpy="0 0 0"/>
      <parent link="base_link"/>
      <child link="link_fixed_4_wall_(0.4625, 0.0)"/>
    </joint>

    <joint name="link_fixed_5_pillar_(-0.4625, 0.4625)" type="fixed">
      <origin xyz="-1.85 1.85 0.4" rpy="0 0 0"/>
      <parent link="base_link"/>
      <child link="link_fixed_5_pillar_(-0.4625, 0.4625)"/>
    </joint>

    <joint name="link_fixed_6_wall_(0.0, 0.4625)" type="fixed">
      <origin xyz="0 1.85 0.4" rpy="0 0 0"/>
      <parent link="base_link"/>
      <child link="link_fixed_6_wall_(0.0, 0.4625)"/>
    </joint>

    <joint name="link_fixed_7_pillar_(0.4625, -0.4625)" type="fixed">
      <origin xyz="1.85 -1.85 0.4" rpy="0 0 0"/>
      <parent link="base_link"/>
      <child link="link_fixed_7_pillar_(0.4625, -0.4625)"/>
    </joint>

    <joint name="link_fixed_8_wall_(0.0, -0.4625)" type="fixed">
      <origin xyz="0 -1.85 0.4" rpy="0 0 0"/>
      <parent link="base_link"/>
      <child link="link_fixed_8_wall_(0.0, -0.4625)"/>
    </joint>

    <joint name="link_fixed_9_pillar_(-0.4625, -0.4625)" type="fixed">
      <origin xyz="-1.85 -1.85 0.4" rpy="0 0 0"/>
      <parent link="base_link"/>
      <child link="link_fixed_9_pillar_(-0.4625, -0.4625)"/>
    </joint>

    <material name="black">
      <color rgba="0 0 0 1.0"/>
    </material>

    <material name="gray">
      <color rgba="0.5 0.5 0.5 1.0"/>
    </material>

    <material name="green">
      <color rgba="0 1.0 0 1.0"/>
    </material>

    <material name="green_translucent">
      <color rgba="0 1.0 0 0.25"/>
    </material>

    <material name="red">
      <color rgba="1.0 0 0 1.0"/>
    </material>

    <material name="yellow">
      <color rgba="1.0 1.0 0 1.0"/>
    </material>

  </robot>
